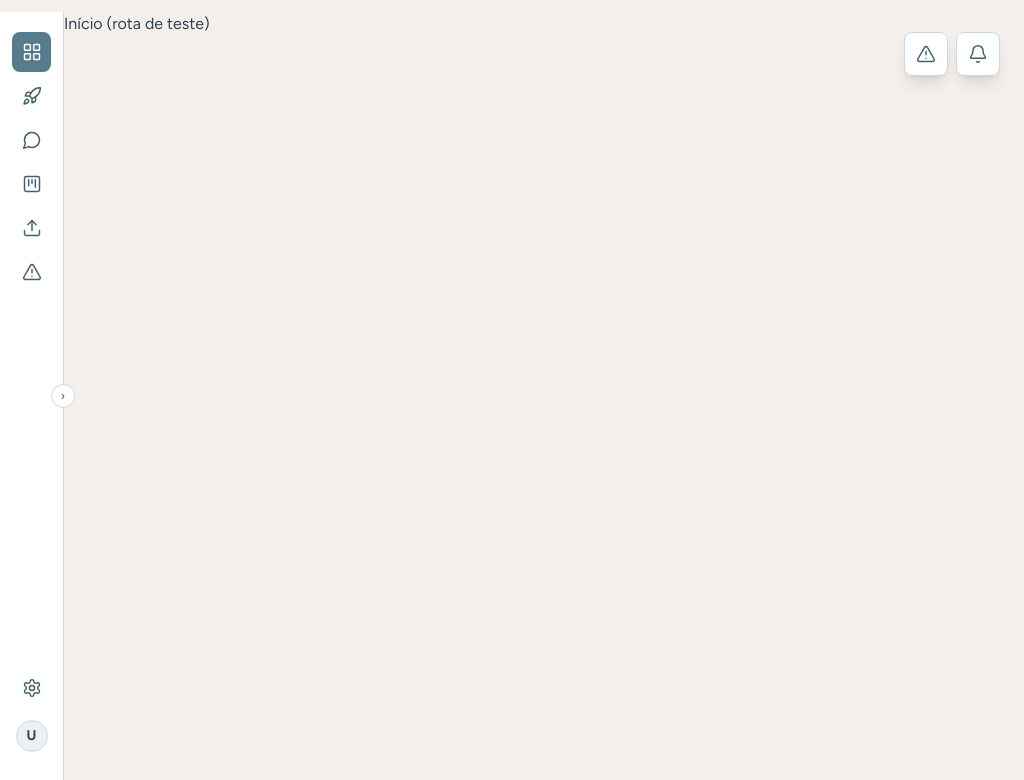
Scenario: ControleLigacoesShell - flyout de Configurações › nasce fechado e, sem admin, o flyout mostra só "Números Remetentes" ao clicar em Configurações
The image size is (1024, 780).
Expected: the link "números remetentes" is not shown
Click the button named "configurações".
click(32, 688)  # box 12,668 -> 51,708
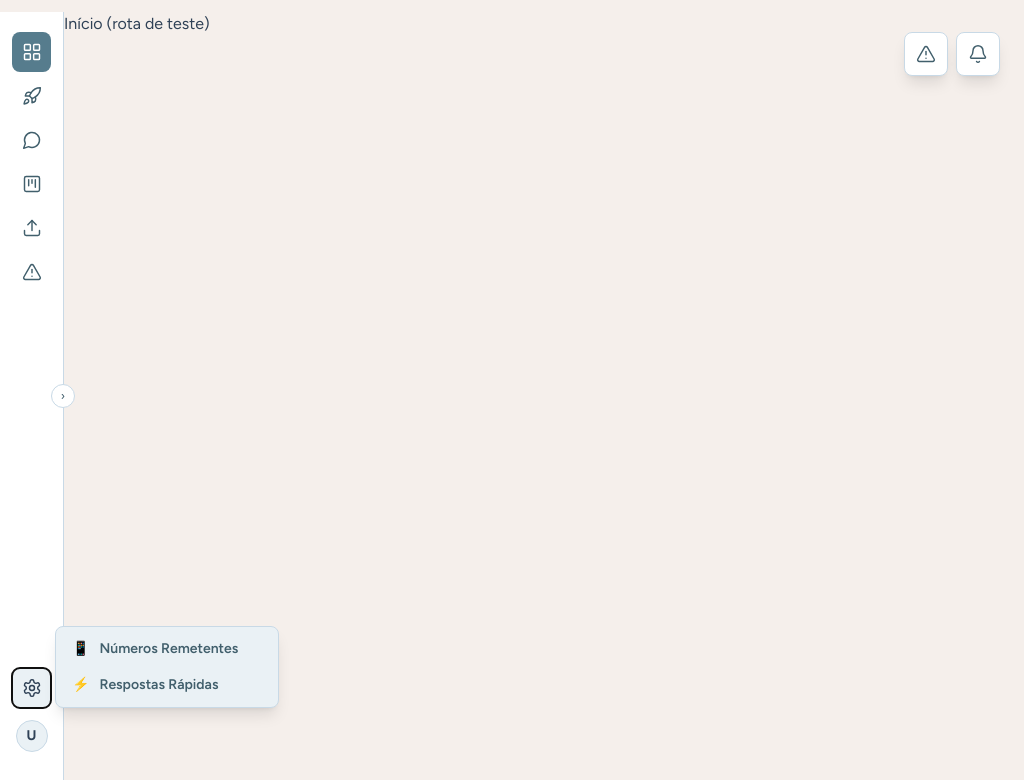
Now the button named "configurações" is expanded, box 12,668 -> 51,708
Now the link "📱 Números Remetentes" is shown, box 72,640 -> 238,657
